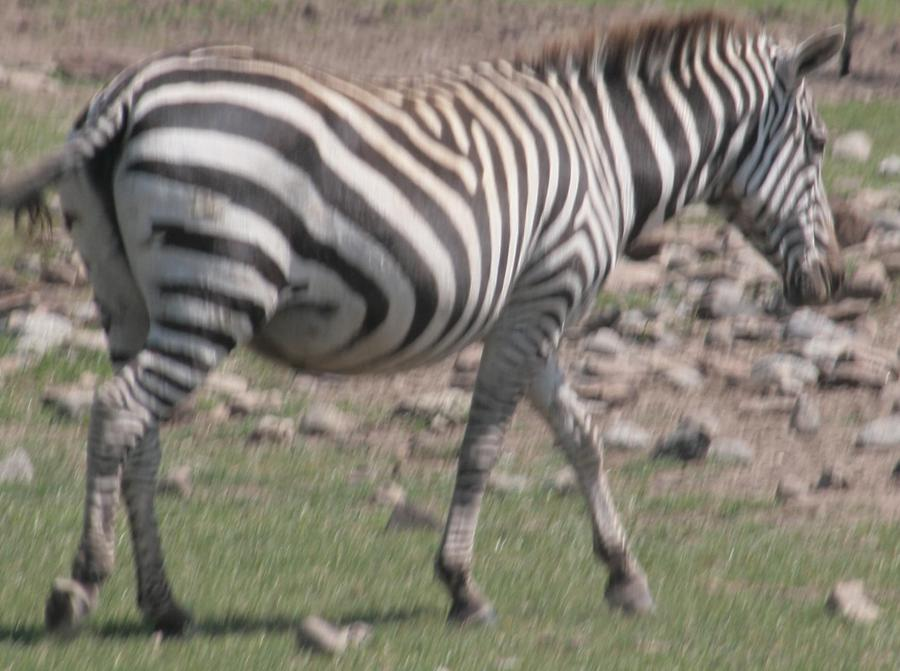zebra_plains: (111, 35, 616, 388)
